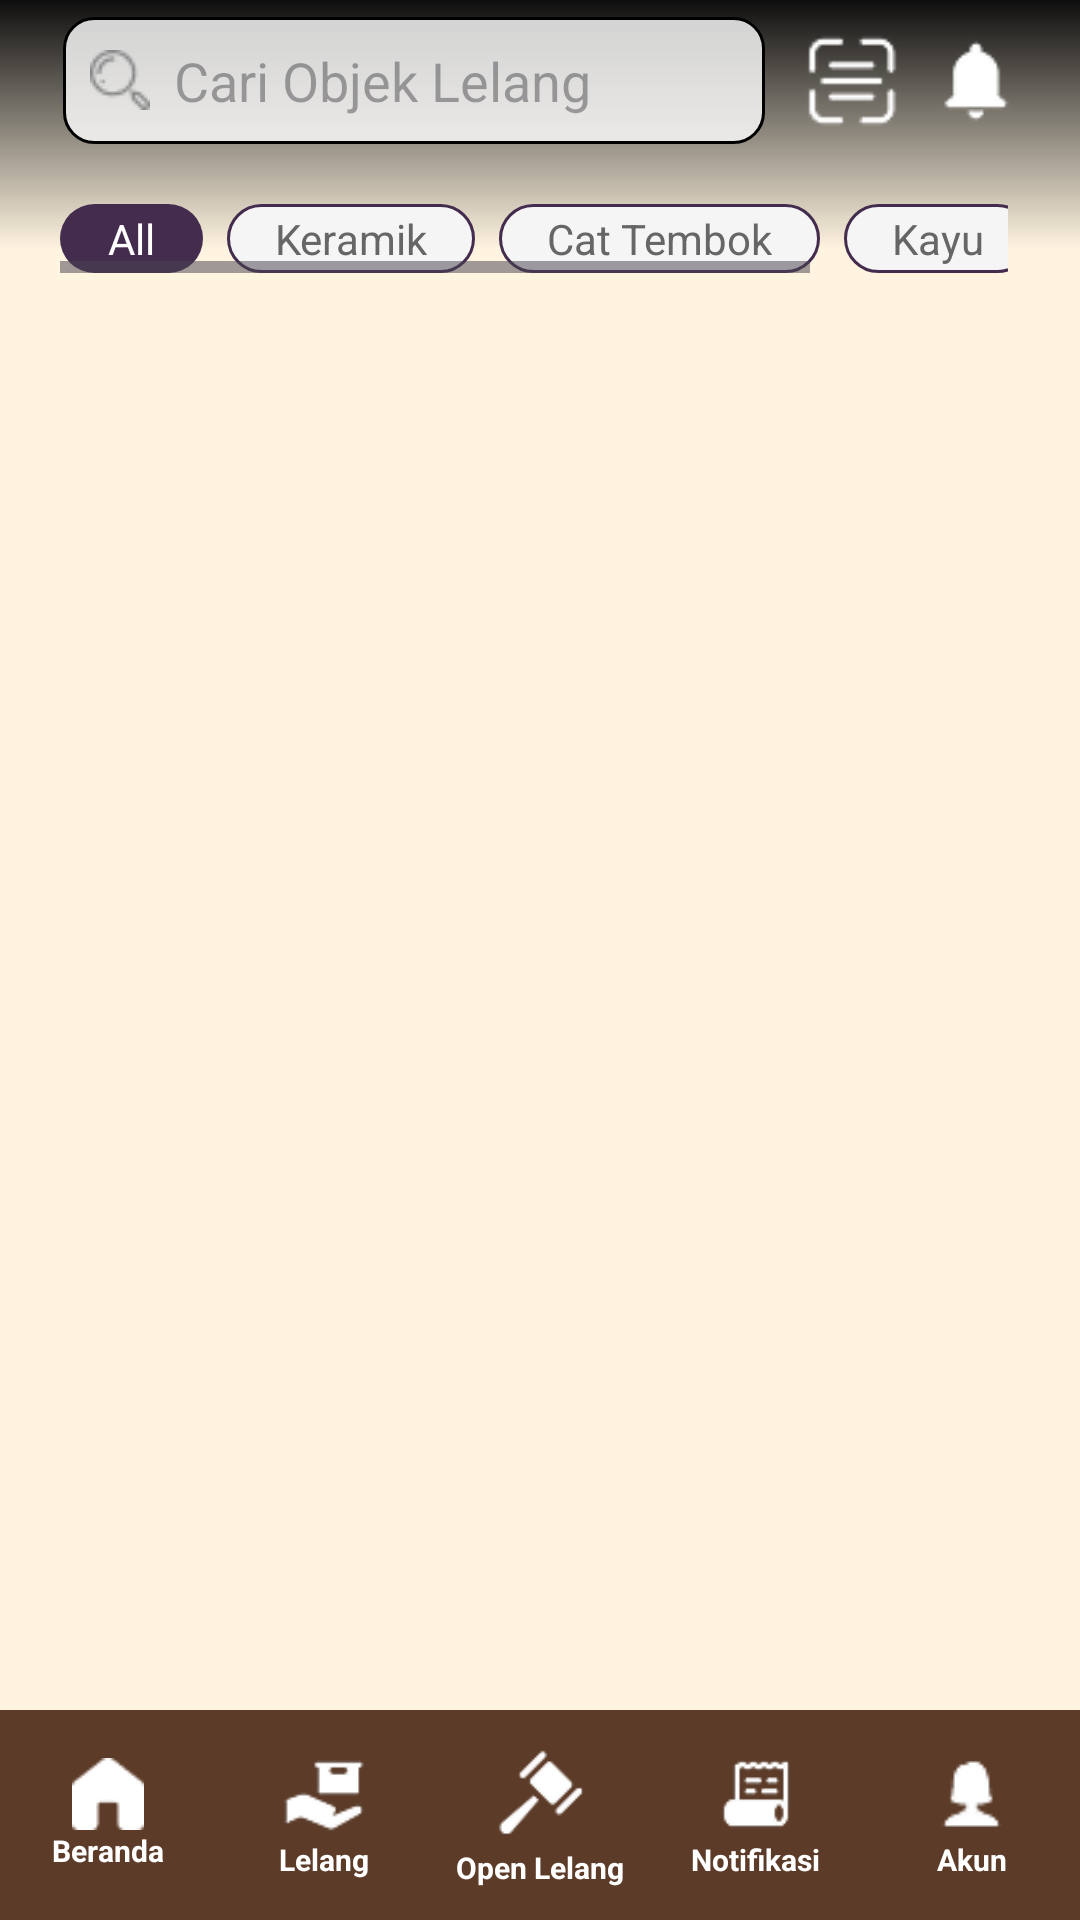

Icon click points for this 1080×1920 phone screenshot, format point (x, y):
notification: point (975, 81)
scan: point (840, 81)
